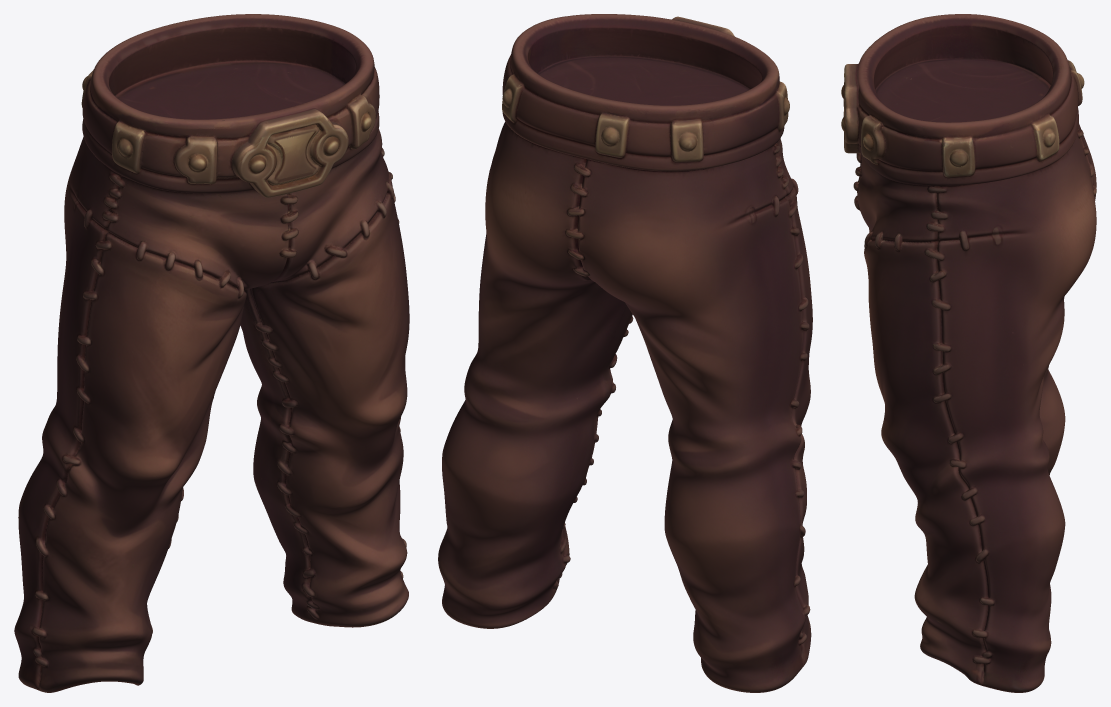
Rendered from leather_pants.glb.
3 renders of one model, left to right at view 1: azimuth 30°, elevation 25°; view 2: azimuth 150°, elevation 25°; view 3: azimuth 270°, elevation 25°, orthographic. The views are drawn at different scales.
Size of the model in its own units: 1.24 by 1.9 by 0.7992.
Materials: 1 (1 with a texture image).
